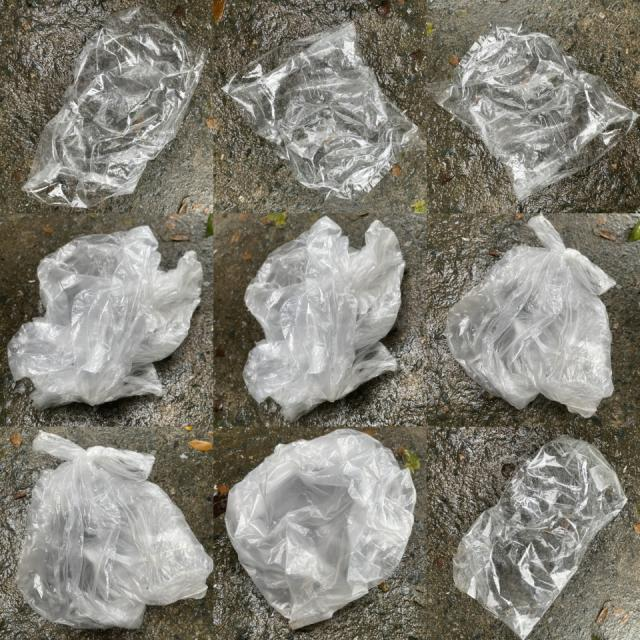Single-layer Plastic: (16, 431, 212, 629), (225, 429, 416, 628), (22, 6, 205, 207), (428, 26, 639, 199), (8, 226, 202, 409), (454, 435, 626, 639), (446, 215, 616, 417), (224, 22, 418, 199), (244, 216, 405, 420)
